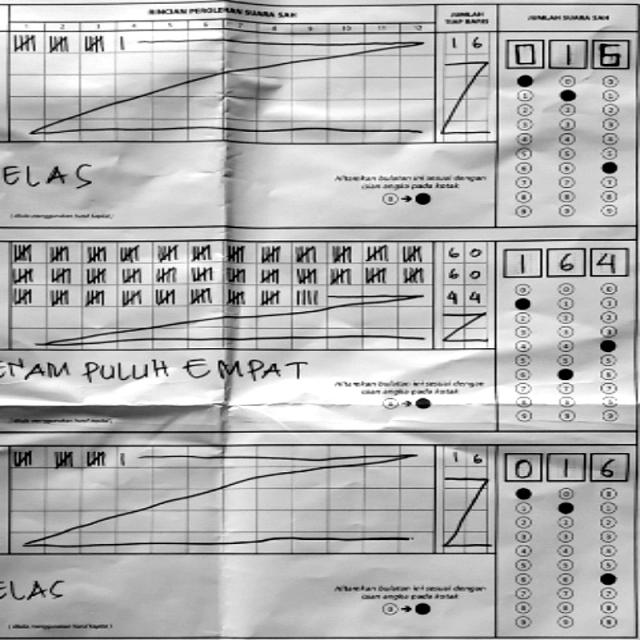Suara: (501, 30, 632, 72), (502, 448, 630, 486), (500, 242, 630, 279)
